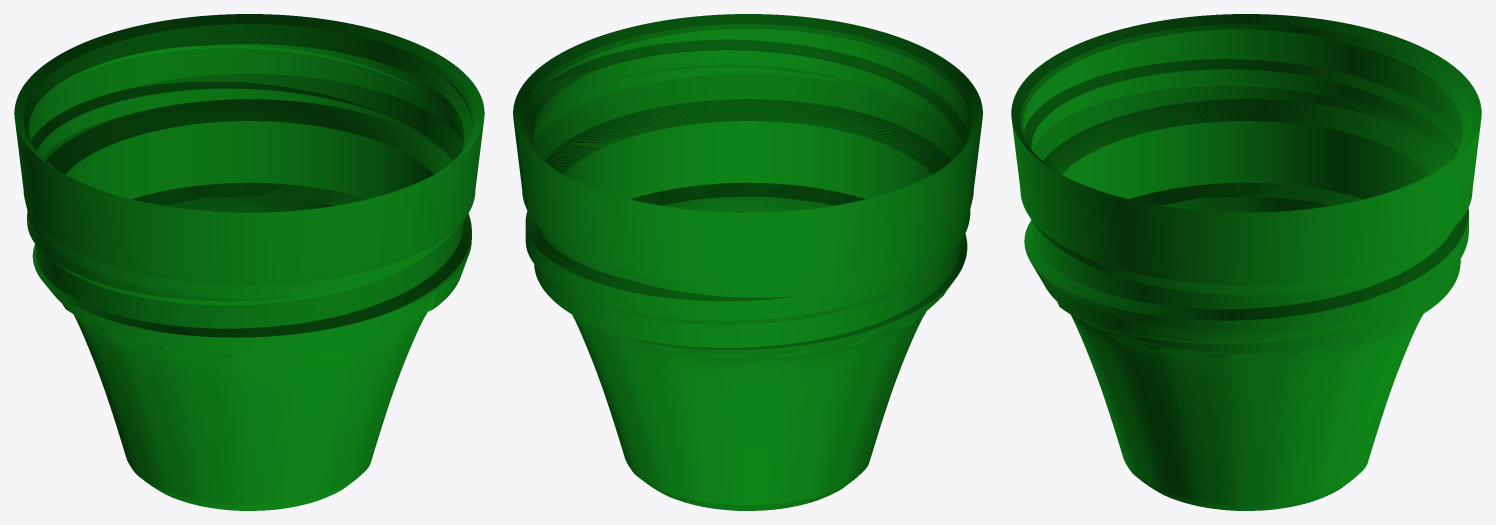
The model's file is Screwshot.glb.
3 renders of one model, left to right at view 1: azimuth 30°, elevation 25°; view 2: azimuth 150°, elevation 25°; view 3: azimuth 270°, elevation 25°, orthographic.
Visible parts, largest first — view 1: Node1; view 2: Node1; view 3: Node1.
Part boxes in pixels (<box>): Node1: <box>14,14,484,510</box>; Node1: <box>513,14,982,510</box>; Node1: <box>1011,14,1481,510</box>.
Bounding box in the file's own units: 47.85 × 39.67 × 47.89.
